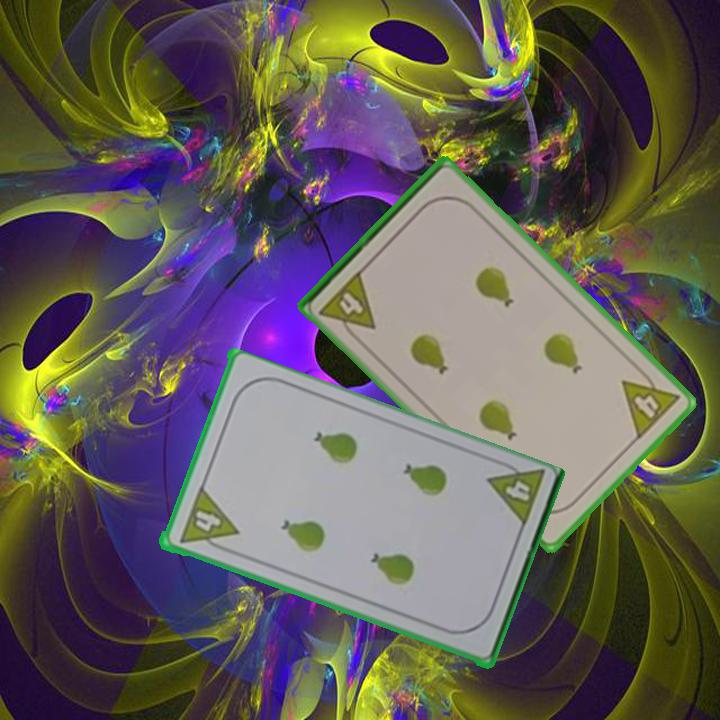4p: (618, 362, 683, 443), (482, 455, 548, 532), (316, 266, 379, 345), (175, 484, 240, 557)
